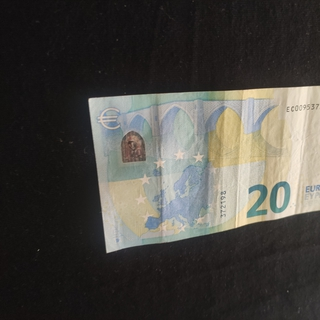20EUROBack: (88, 84, 320, 253)
